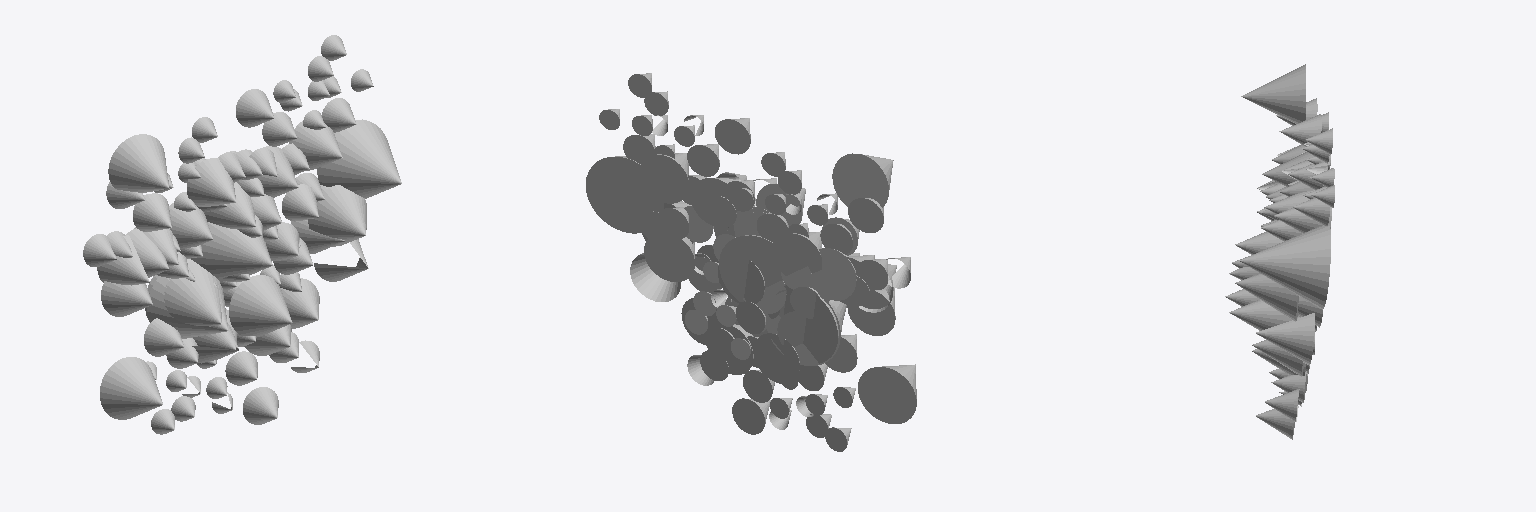
Rendered from spikes.obj.
3 views of the same model, side by side, from view 1: azimuth 30°, elevation 25°; view 2: azimuth 150°, elevation 25°; view 3: azimuth 270°, elevation 25° (orthographic).
Parts seen in each view (by area): view 1: Cone; view 2: Cone; view 3: Cone.
Boxes of the visible parts, <box> form: Cone: <box>83,35,401,434</box>; Cone: <box>586,73,916,451</box>; Cone: <box>1225,64,1334,439</box>.
Size of the model in its own units: 13.01 by 13.88 by 3.95.